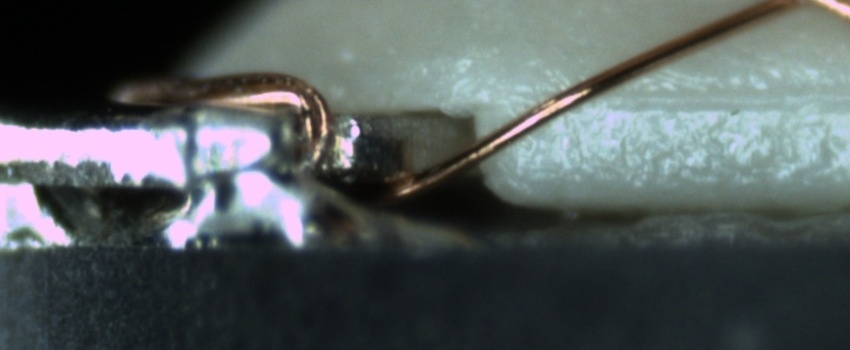CL: (755, 0, 839, 17)
DL: (509, 71, 849, 131)
TE: (119, 67, 340, 172)
